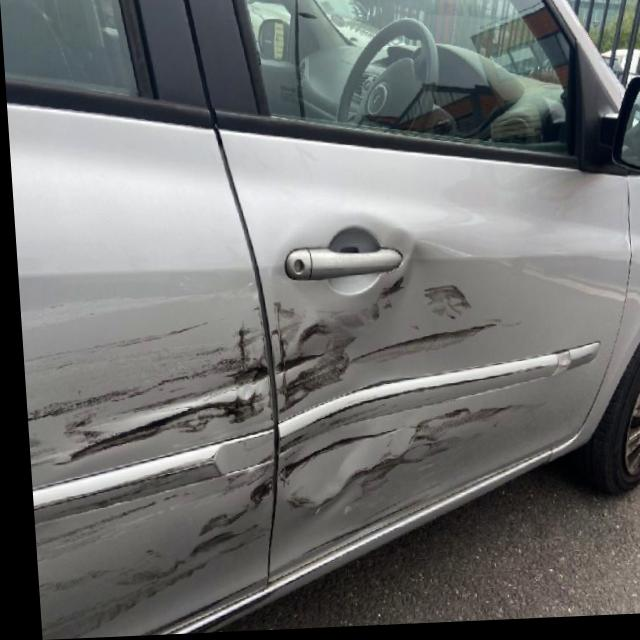porte-avant: (182, 0, 640, 595)
